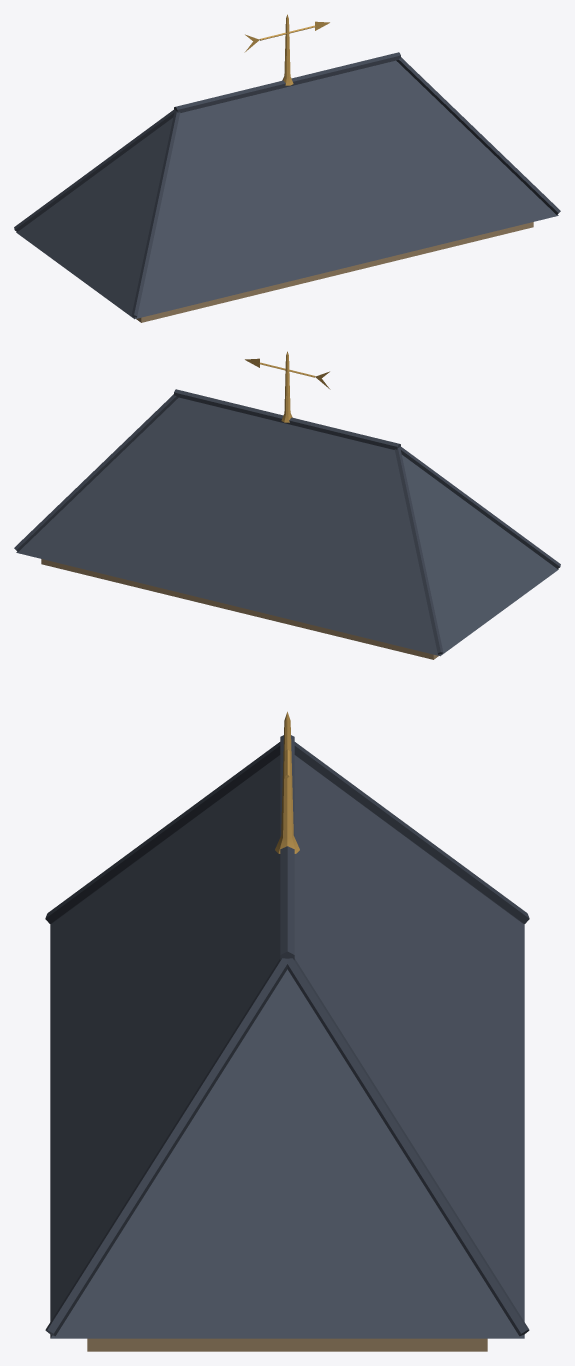
Rendered from belfry_roof.glb.
The picture shows the model from 3 angles, top to bottom: view 1: azimuth 30°, elevation 25°; view 2: azimuth 150°, elevation 25°; view 3: azimuth 270°, elevation 25°; orthographic projection. The views are drawn at different scales.
Visible parts, largest first — view 1: belfry_roof; view 2: belfry_roof; view 3: belfry_roof.
Part boxes in pixels (left/top/right/bottom): belfry_roof: left=14, top=14, right=560, bottom=322; belfry_roof: left=14, top=351, right=560, bottom=659; belfry_roof: left=45, top=711, right=529, bottom=1351.
Bounding box in the file's own units: 9.4 × 4.7 × 4.6.
